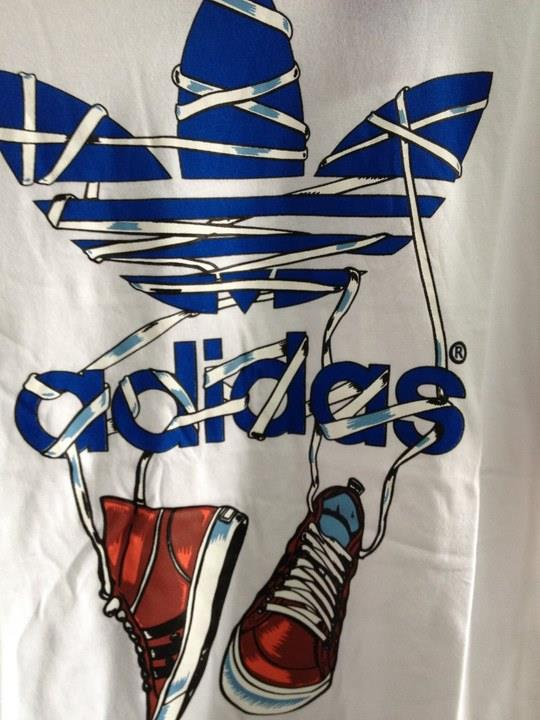Adidas_Originals: (4, 4, 501, 464)
